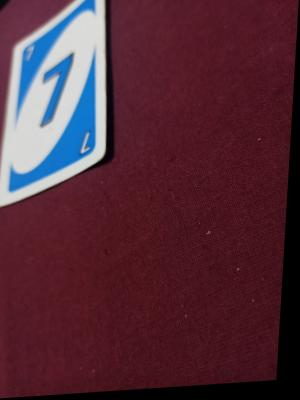blue: (13, 48, 101, 167)
